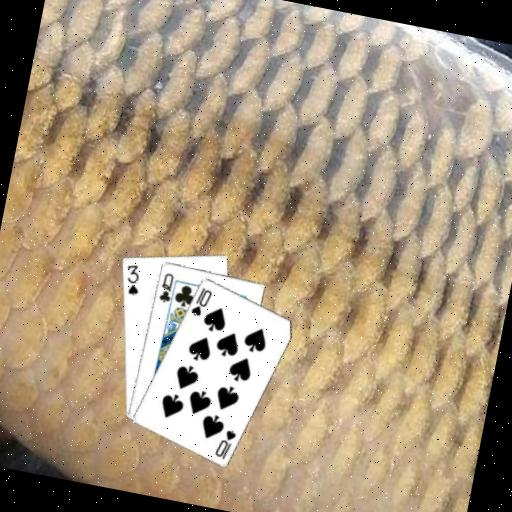10S: (211, 424, 239, 462), (187, 283, 215, 320)
3S: (120, 260, 145, 298)
QC: (155, 269, 176, 305)
